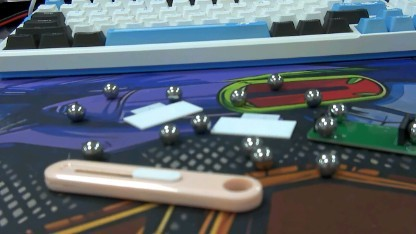ironball: (238, 130, 263, 156), (311, 114, 336, 138), (62, 99, 87, 123), (316, 148, 339, 172), (189, 108, 211, 133), (326, 99, 348, 123), (227, 87, 251, 108), (77, 139, 102, 159), (251, 143, 270, 167), (98, 80, 121, 99), (160, 122, 177, 147), (265, 69, 285, 89), (163, 81, 182, 102), (304, 89, 322, 107), (407, 118, 414, 143)
